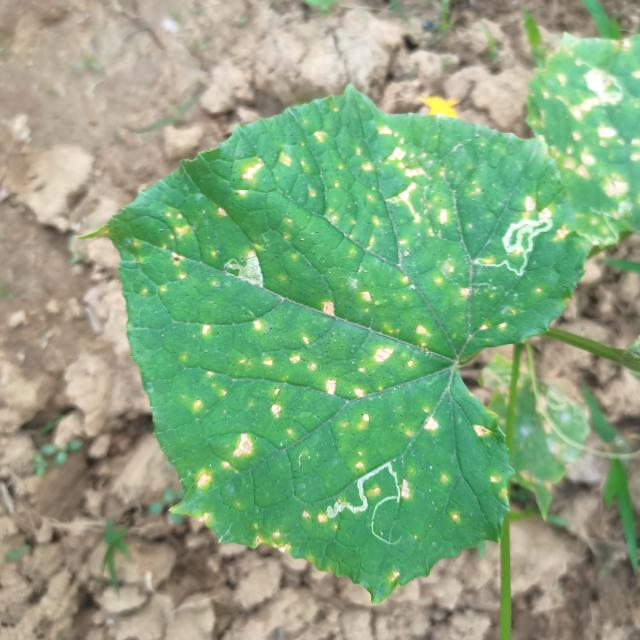disease_cucumber: (152, 122, 537, 540), (538, 44, 640, 198)
